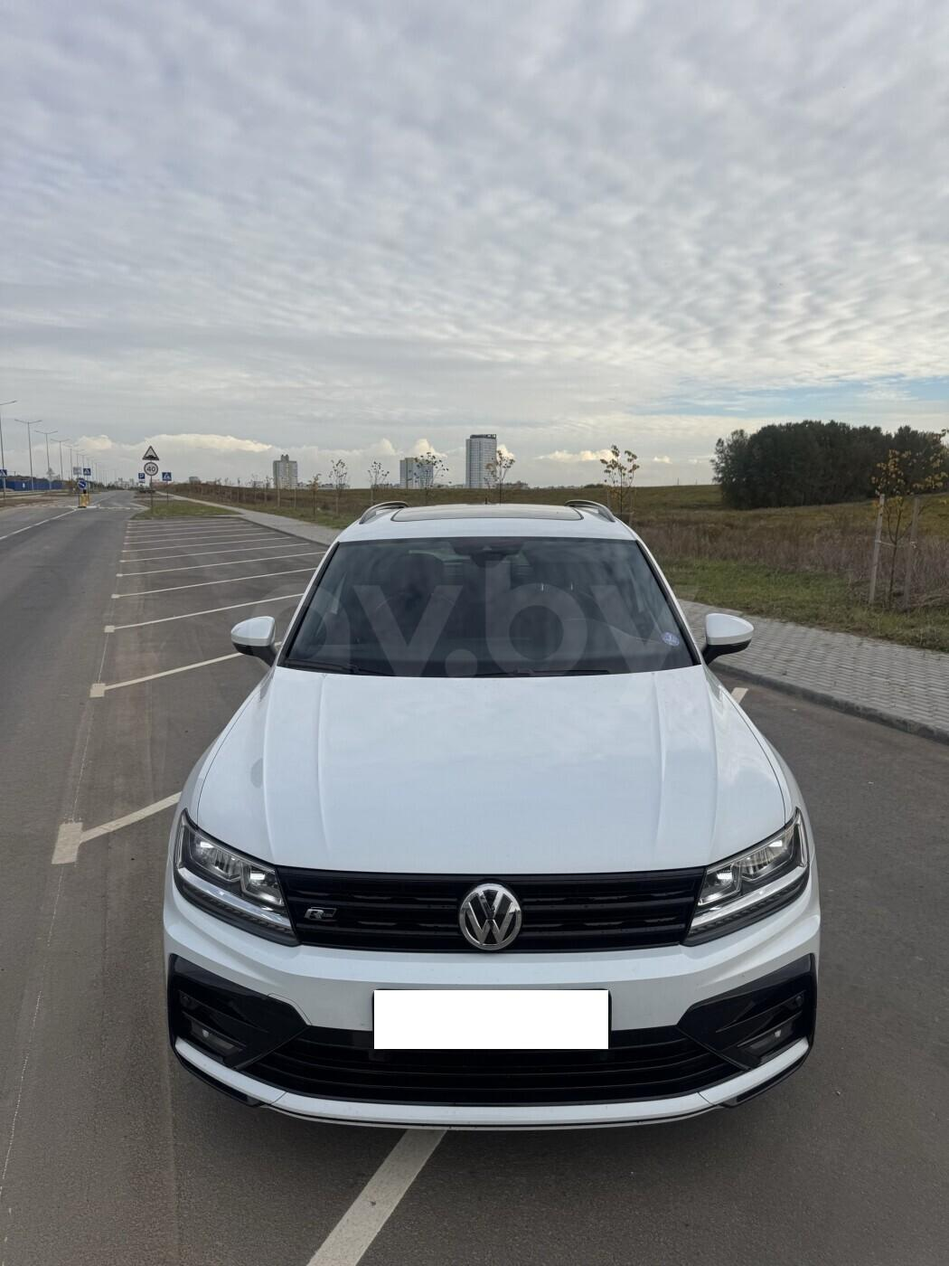Tiguan_2016-2021: (163, 501, 826, 1130)
